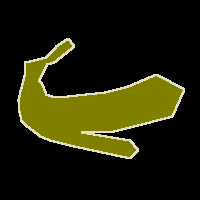tie: (18, 38, 184, 158)
